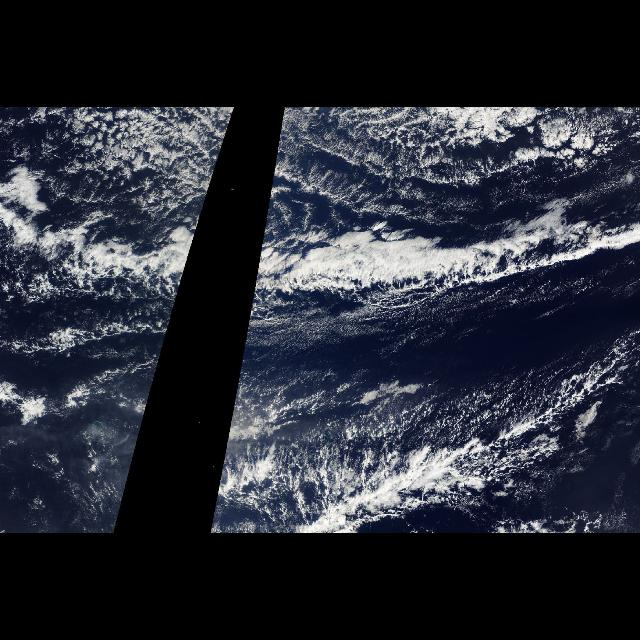Fish: (248, 214, 634, 324), (287, 433, 639, 529), (10, 214, 202, 324)
Sugar: (296, 116, 452, 210)
